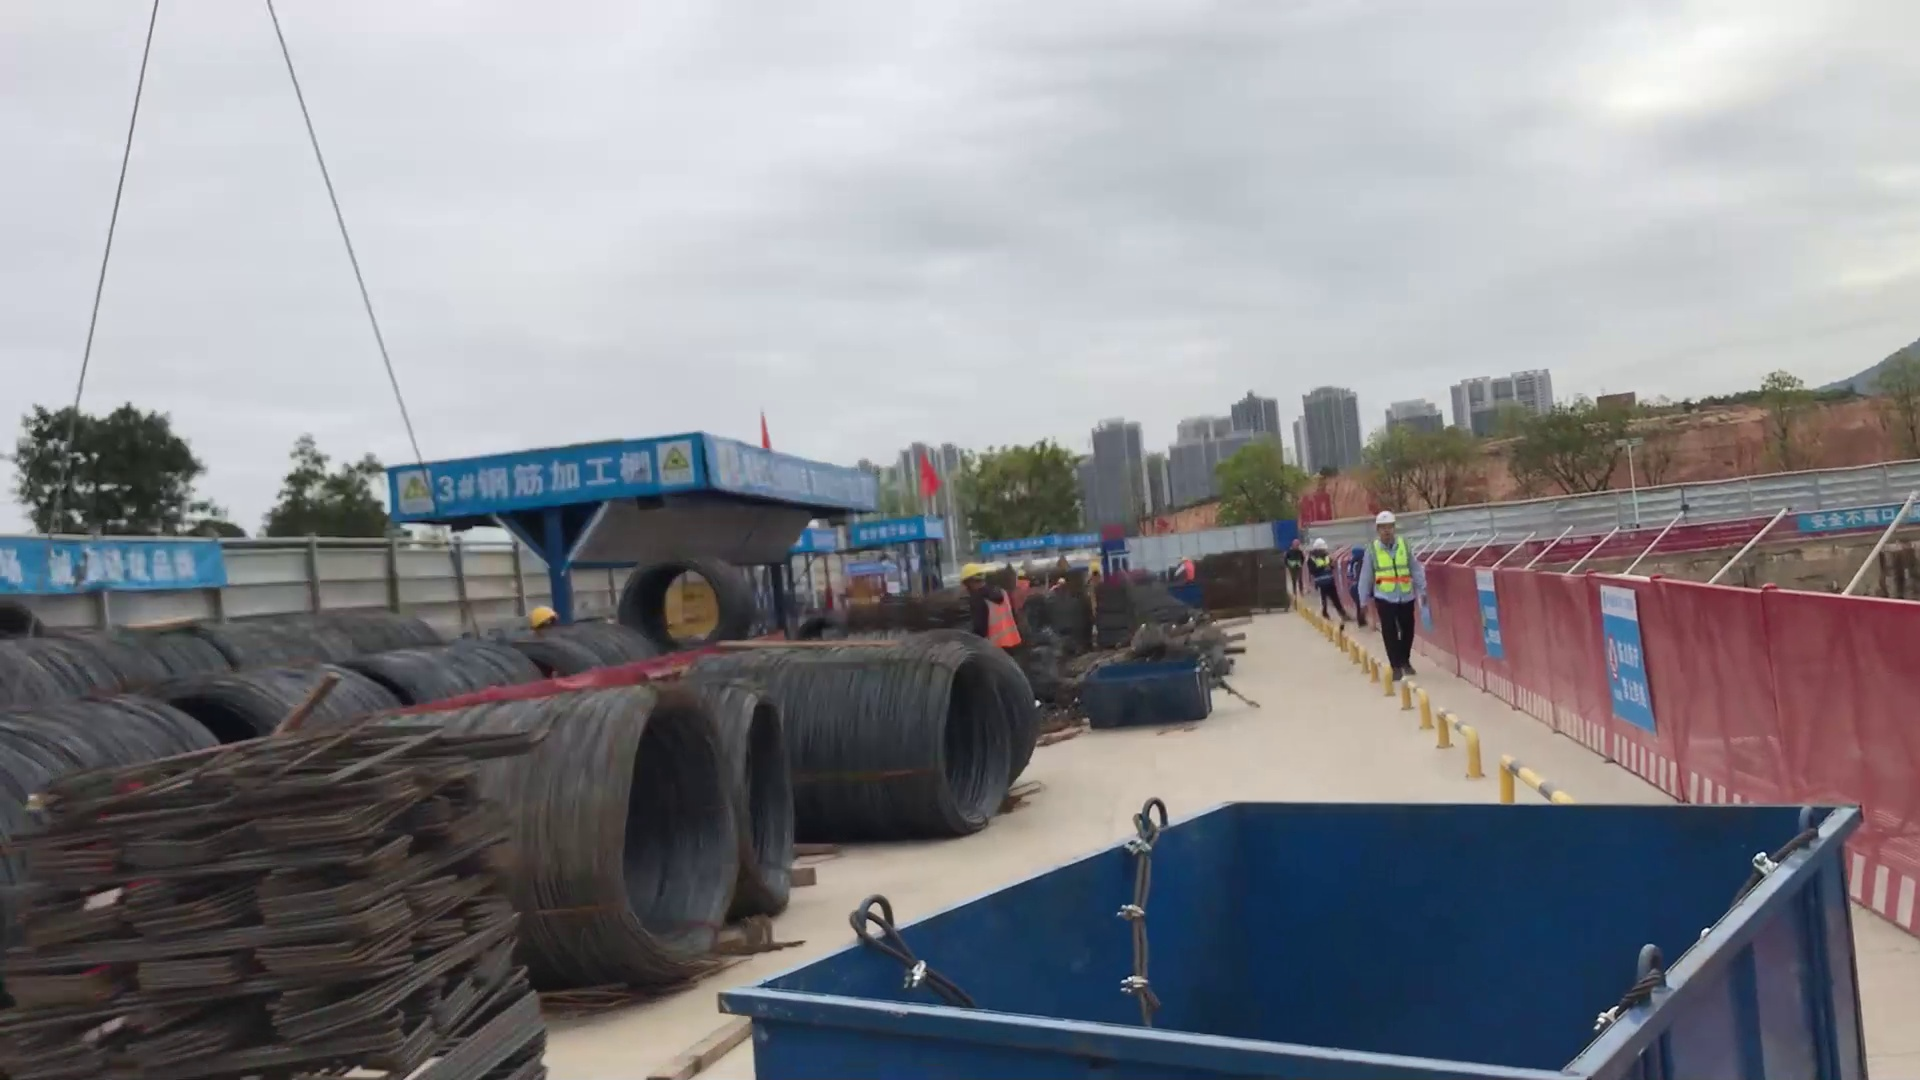fence: (1448, 545, 1814, 798), (1813, 552, 1920, 936)
helmet: (520, 602, 561, 629), (959, 562, 991, 588), (1373, 510, 1401, 527), (1312, 534, 1331, 554), (1289, 537, 1302, 549)
hopper: (701, 786, 1882, 1080)
person: (1361, 503, 1444, 680), (965, 566, 1027, 656), (1305, 541, 1352, 626)
slogan: (380, 440, 722, 509), (8, 512, 231, 604), (1580, 574, 1700, 740), (810, 510, 942, 555), (1787, 491, 1920, 534), (1472, 558, 1519, 665)
vest: (1369, 546, 1416, 603), (981, 588, 1019, 646)
